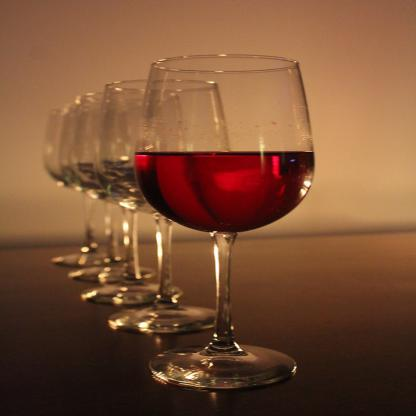drinking: (135, 55, 315, 393)
